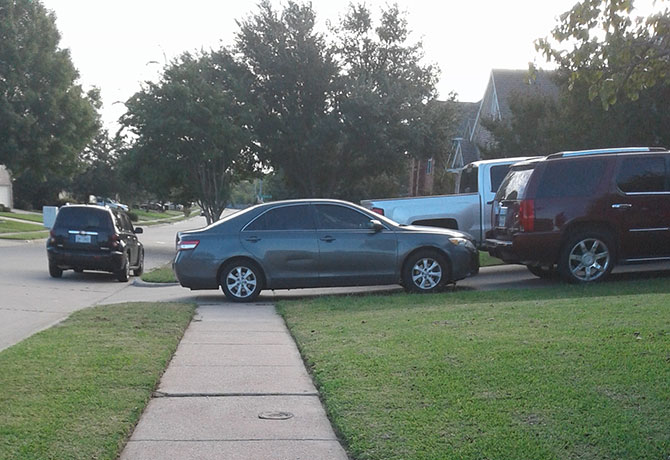Car: (167, 197, 481, 299), (479, 146, 670, 285), (43, 198, 153, 286)
